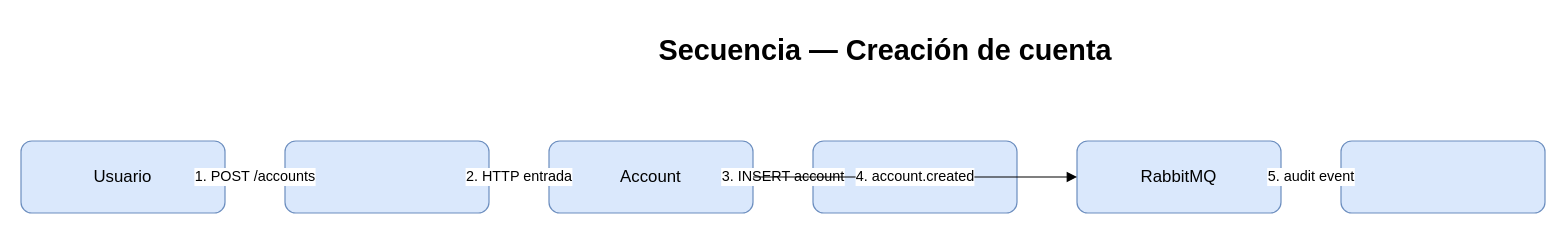
Image size: 1566x234. Some labels were removed from this diagram. The centre of each missing label's shape, as x and y in pixels:
"Gateway" goes at pixel 386 176.
"Notification" goes at pixel 1442 176.
